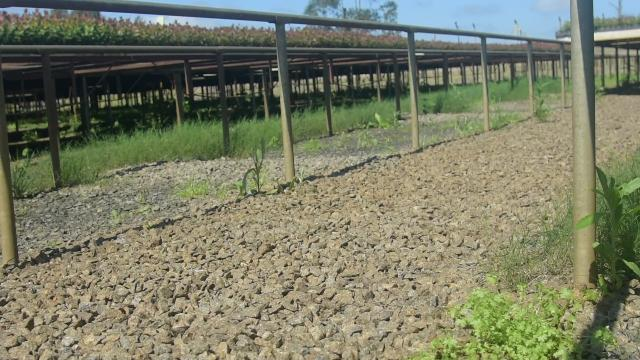MalezaMontesDelPlata: (430, 280, 609, 360), (479, 202, 578, 286), (587, 165, 640, 293), (233, 143, 280, 201), (171, 180, 219, 202)
